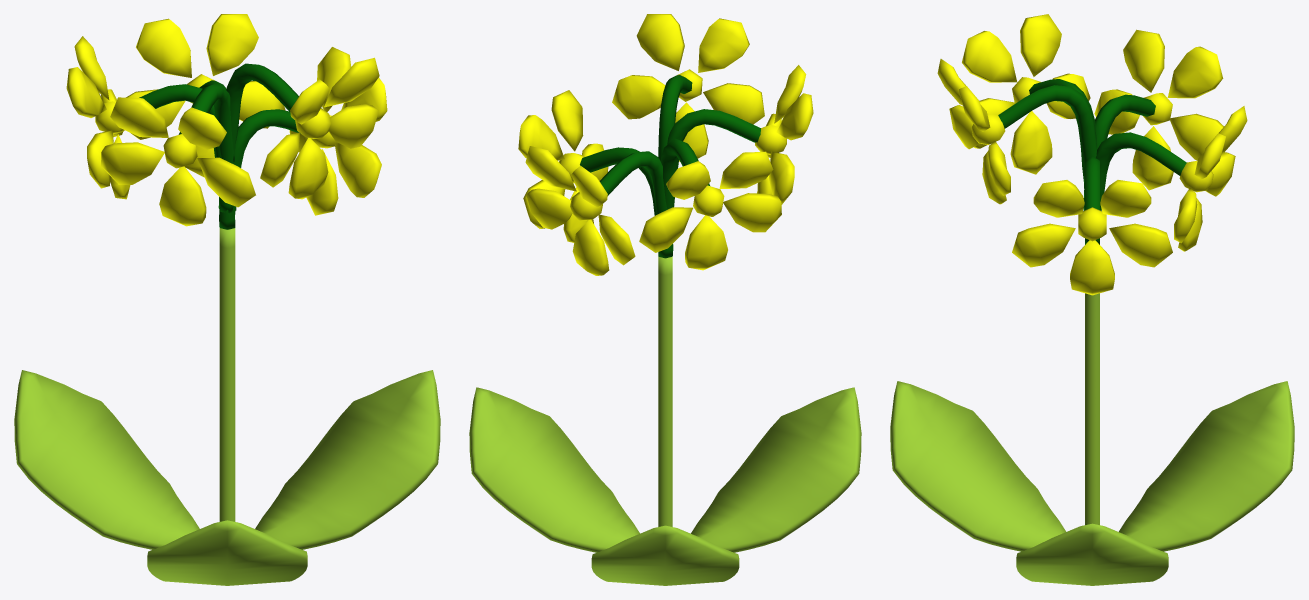
Rendered from primrose_0005.obj.
The picture shows the model from 3 angles, left to right: view 1: azimuth 30°, elevation 25°; view 2: azimuth 150°, elevation 25°; view 3: azimuth 270°, elevation 25°; orthographic projection. The views are drawn at different scales.
Parts seen in each view (by area): view 1: primrose_0005; view 2: primrose_0005; view 3: primrose_0005.
Part boxes in pixels (x1,y1,x2,y2): primrose_0005: (14, 14, 440, 585); primrose_0005: (469, 14, 861, 585); primrose_0005: (890, 14, 1294, 585).
Bounding box in the file's own units: 2.21 × 3.2 × 2.33.
1 material, 1 textured.
